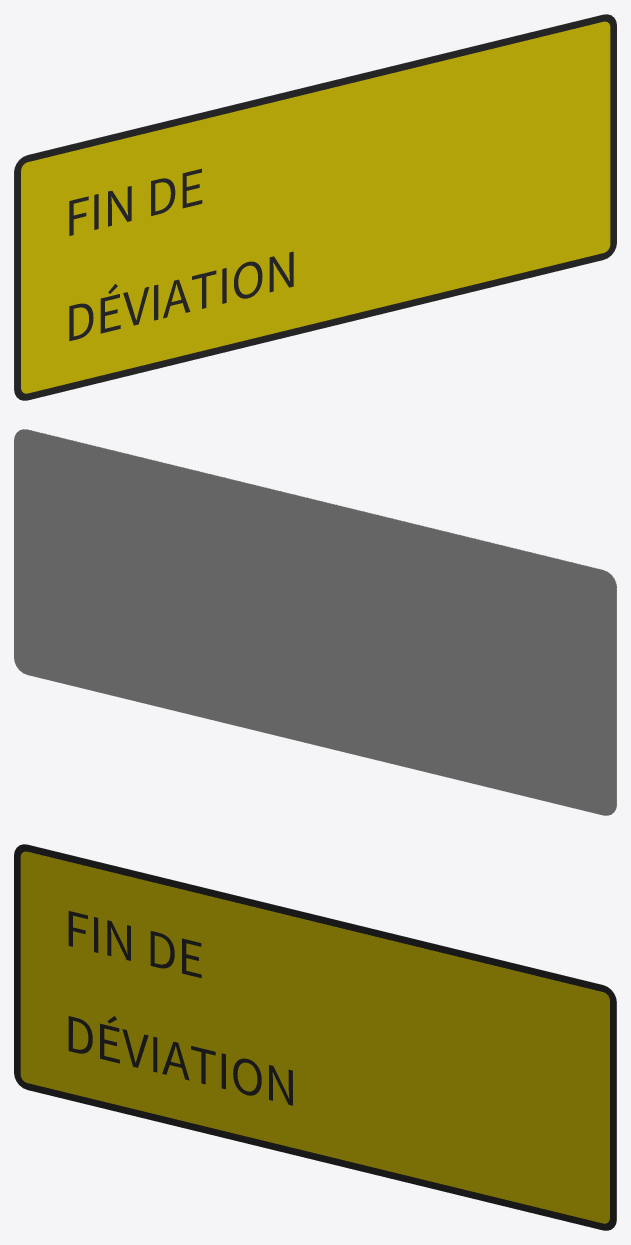
3 renders of one model, top to bottom at view 1: azimuth 30°, elevation 25°; view 2: azimuth 150°, elevation 25°; view 3: azimuth 330°, elevation 25°, orthographic.
Parts seen in each view (by area): view 1: KD69a_fond01, KD69a_cadre00, KD69a_txt03, KD69a_txt02, KD69a_dos; view 2: KD69a_dos; view 3: KD69a_fond01, KD69a_cadre00, KD69a_txt03, KD69a_txt02, KD69a_dos.
Boxes of the visible parts, x1=… form: KD69a_fond01: x1=21, y1=21, x2=610, y2=393; KD69a_cadre00: x1=14, y1=14, x2=616, y2=400; KD69a_txt03: x1=69, y1=251, x2=293, y2=341; KD69a_txt02: x1=69, y1=168, x2=202, y2=235; KD69a_dos: x1=14, y1=14, x2=605, y2=396; KD69a_dos: x1=14, y1=429, x2=616, y2=815; KD69a_fond01: x1=20, y1=851, x2=609, y2=1223; KD69a_cadre00: x1=14, y1=844, x2=616, y2=1230; KD69a_txt03: x1=68, y1=1016, x2=292, y2=1105; KD69a_txt02: x1=68, y1=911, x2=201, y2=978; KD69a_dos: x1=25, y1=844, x2=616, y2=1226.
Bounding box in the file's own units: 1.8 × 0.7 × 0.0029.
